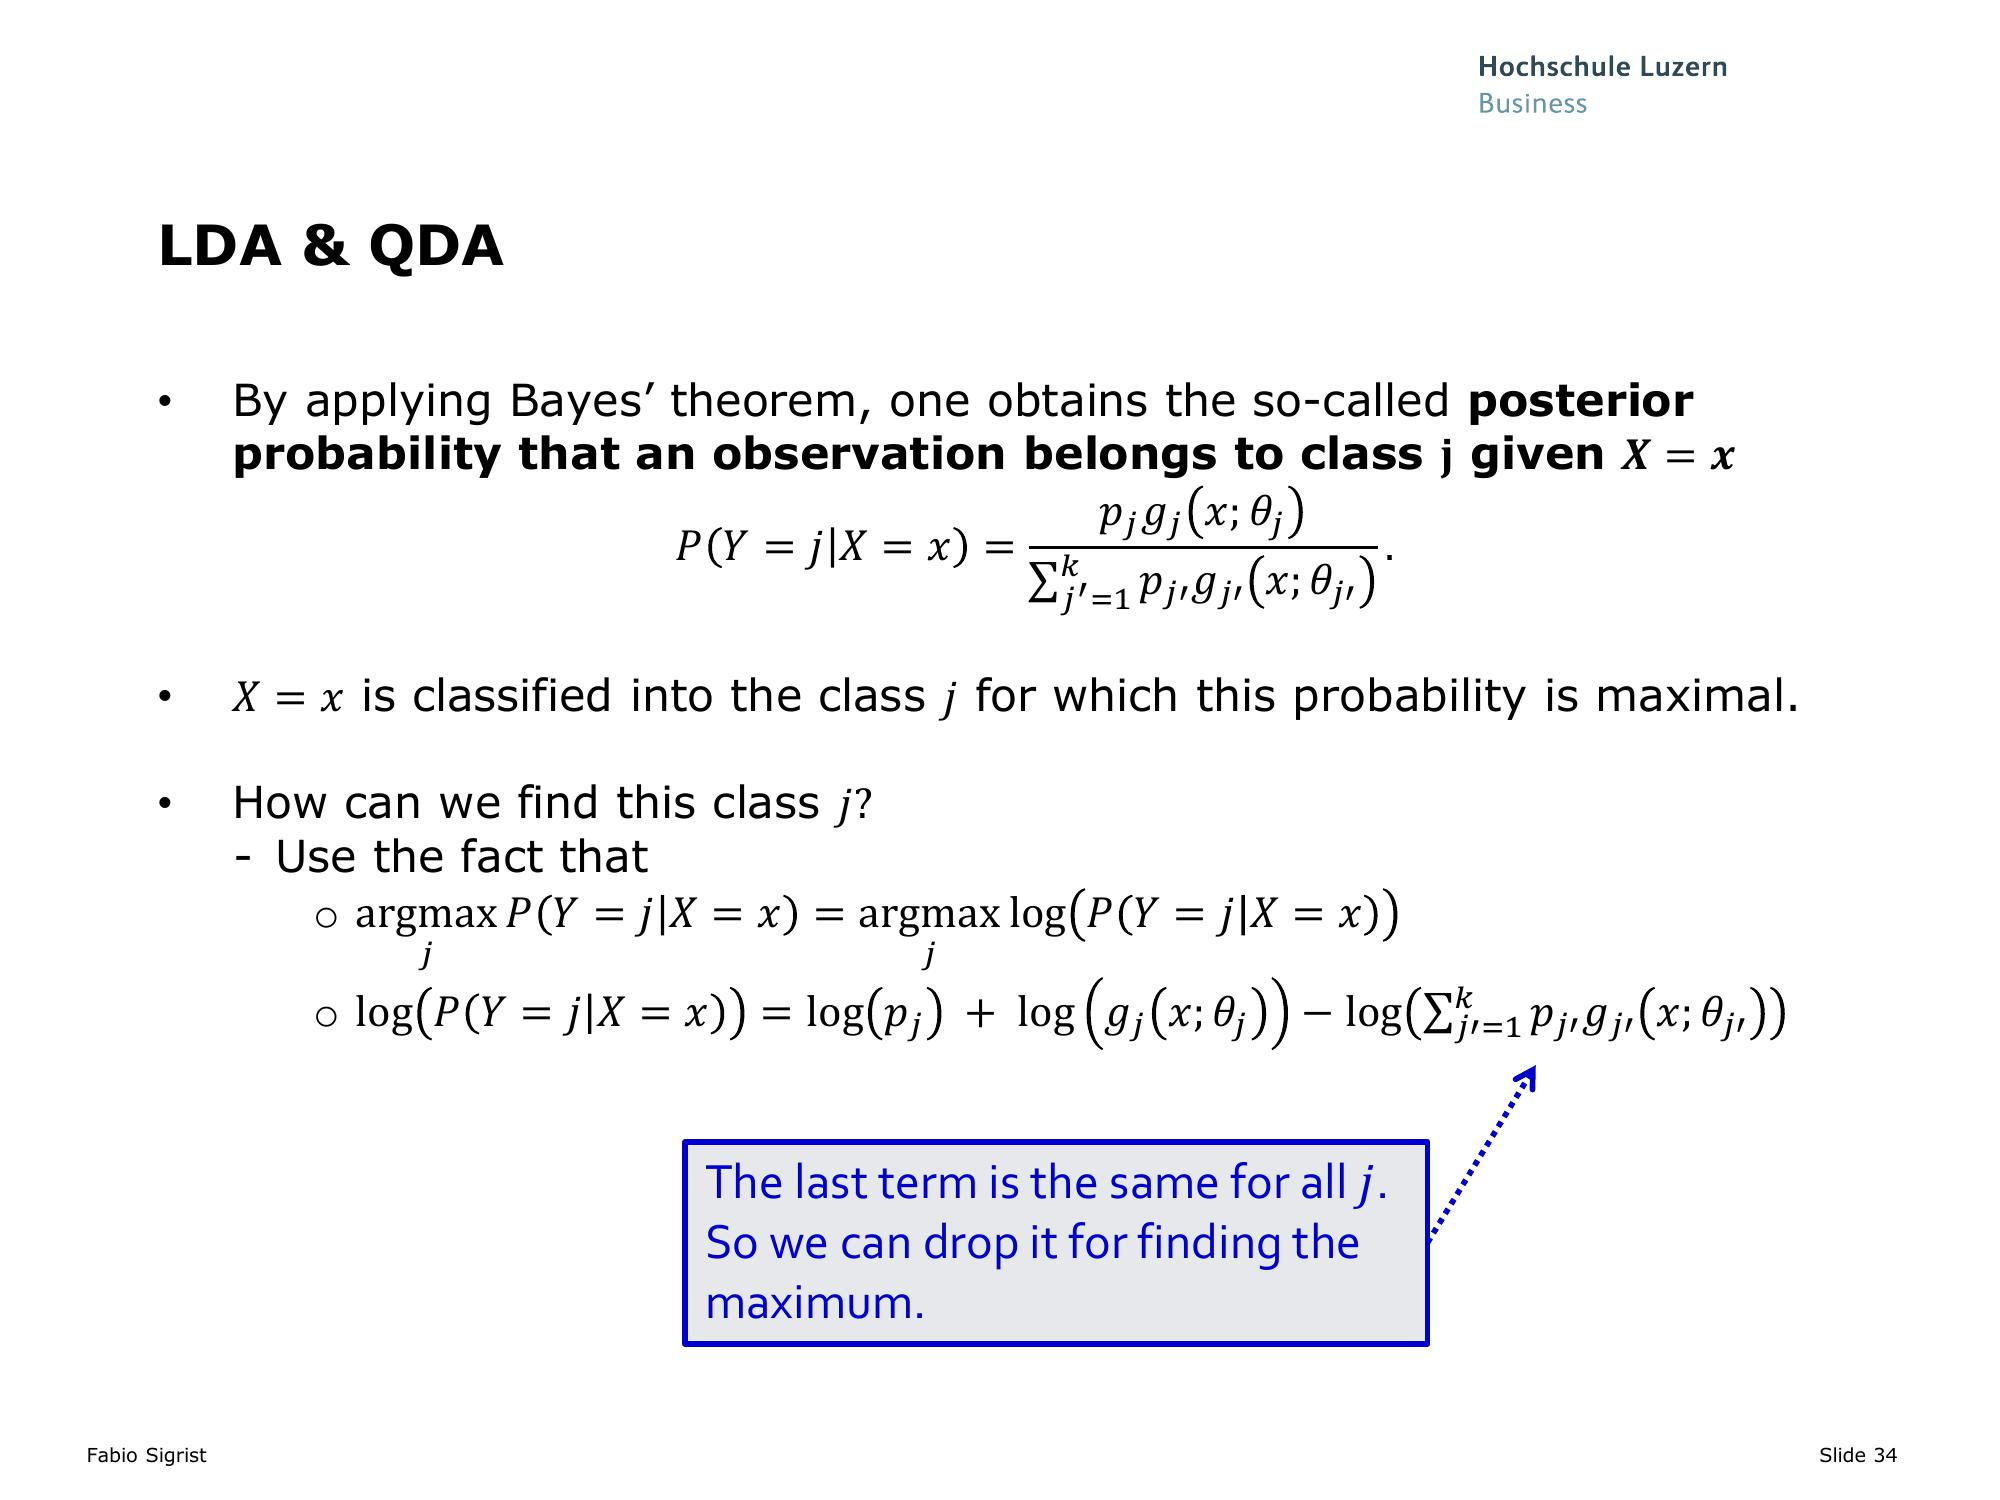Title: (128, 206, 532, 284)
